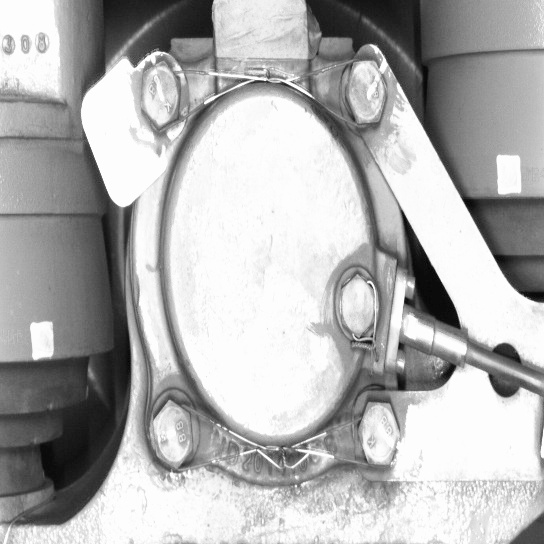IronWire: (139, 385, 408, 476), (125, 52, 392, 137)
Screw: (139, 385, 203, 478), (125, 51, 192, 137), (345, 389, 406, 475), (334, 48, 392, 137), (328, 259, 382, 347)
